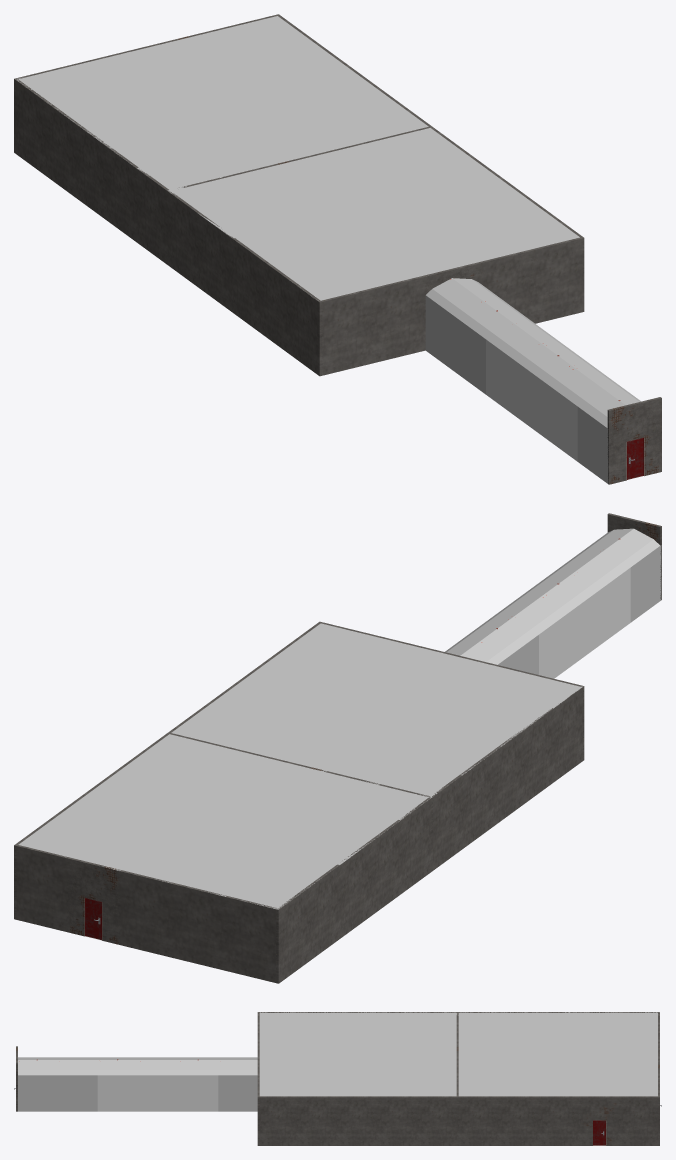
The model's file is BossRoom.fbx.
The picture shows the model from 3 angles, top to bottom: view 1: azimuth 30°, elevation 25°; view 2: azimuth 150°, elevation 25°; view 3: azimuth 270°, elevation 25°; orthographic projection. The views are drawn at different scales.
Visible parts, largest first — view 1: Wall_3x4_1.001, Wall_3x4_1.002, Wall_3x4_1.003, Door_3x4_1.001, Wall_3x4_1.013, Wall_3x4_1, Wall_3x4_1.025, Wall_3x4_1.011, Wall_3x4_1.023, Wall_3x4_1.024, Wall_3x4_1.010, Wall_3x4_1.026 (+66 smaller); view 2: Wall_3x4_1.028, Wall_3x4_1.029, Wall_3x4_1.030, Wall_3x4_1.031, Door_3x4_1.003, Wall_3x4_1.024, Wall_3x4_1.012, Wall_3x4_1.025, Wall_3x4_1.009, Wall_3x4_1.023, Wall_3x4_1.027, Wall_3x4_1.011 (+65 smaller); view 3: Wall_3x4_1.004, Wall_3x4_1.006, Wall_3x4_1.007, Wall_3x4_1.019, Wall_3x4_1.020, Wall_3x4_1.021, Wall_3x4_1.022, Wall_3x4_1.005, Wall_3x4_1.008, Wall_3x4_1.018, Wall_3x3_2.002, Wall_3x3_3.001 (+61 smaller).
Boxes of the visible parts, <box> form: Wall_3x4_1.001: <box>371,275,425,363</box>; Wall_3x4_1.002: <box>318,288,372,376</box>; Wall_3x4_1.003: <box>530,237,584,323</box>; Door_3x4_1.001: <box>607,397,661,484</box>; Wall_3x4_1.013: <box>289,279,322,375</box>; Wall_3x4_1: <box>477,250,531,320</box>; Wall_3x4_1.025: <box>105,145,138,241</box>; Wall_3x4_1.011: <box>258,257,291,353</box>; Wall_3x4_1.023: <box>44,100,77,196</box>; Wall_3x4_1.024: <box>14,78,46,174</box>; Wall_3x4_1.010: <box>167,190,199,286</box>; Wall_3x4_1.026: <box>75,123,106,219</box>; Wall_3x4_1.028: <box>120,870,173,957</box>; Wall_3x4_1.029: <box>173,883,226,970</box>; Wall_3x4_1.030: <box>225,896,280,983</box>; Wall_3x4_1.031: <box>14,844,67,931</box>; Door_3x4_1.003: <box>67,857,120,944</box>; Wall_3x4_1.024: <box>276,887,309,983</box>; Wall_3x4_1.012: <box>490,730,523,826</box>; Wall_3x4_1.025: <box>368,820,400,916</box>; Wall_3x4_1.009: <box>460,752,492,848</box>; Wall_3x4_1.023: <box>307,864,339,960</box>; Wall_3x4_1.027: <box>400,797,431,893</box>; Wall_3x4_1.011: <box>522,708,553,804</box>; Wall_3x4_1.004: <box>378,1096,418,1145</box>; Wall_3x4_1.006: <box>297,1096,337,1145</box>; Wall_3x4_1.007: <box>338,1096,378,1145</box>; Wall_3x4_1.019: <box>619,1096,659,1145</box>; Wall_3x4_1.020: <box>499,1096,539,1145</box>; Wall_3x4_1.021: <box>539,1096,579,1145</box>; Wall_3x4_1.022: <box>458,1096,498,1145</box>; Wall_3x4_1.005: <box>418,1096,458,1145</box>; Wall_3x4_1.008: <box>257,1096,297,1145</box>; Wall_3x4_1.018: <box>579,1096,619,1145</box>; Wall_3x3_2.002: <box>178,1075,218,1111</box>; Wall_3x3_3.001: <box>137,1075,177,1111</box>.
Size of the model in its own units: 1515 by 401 by 4830.
